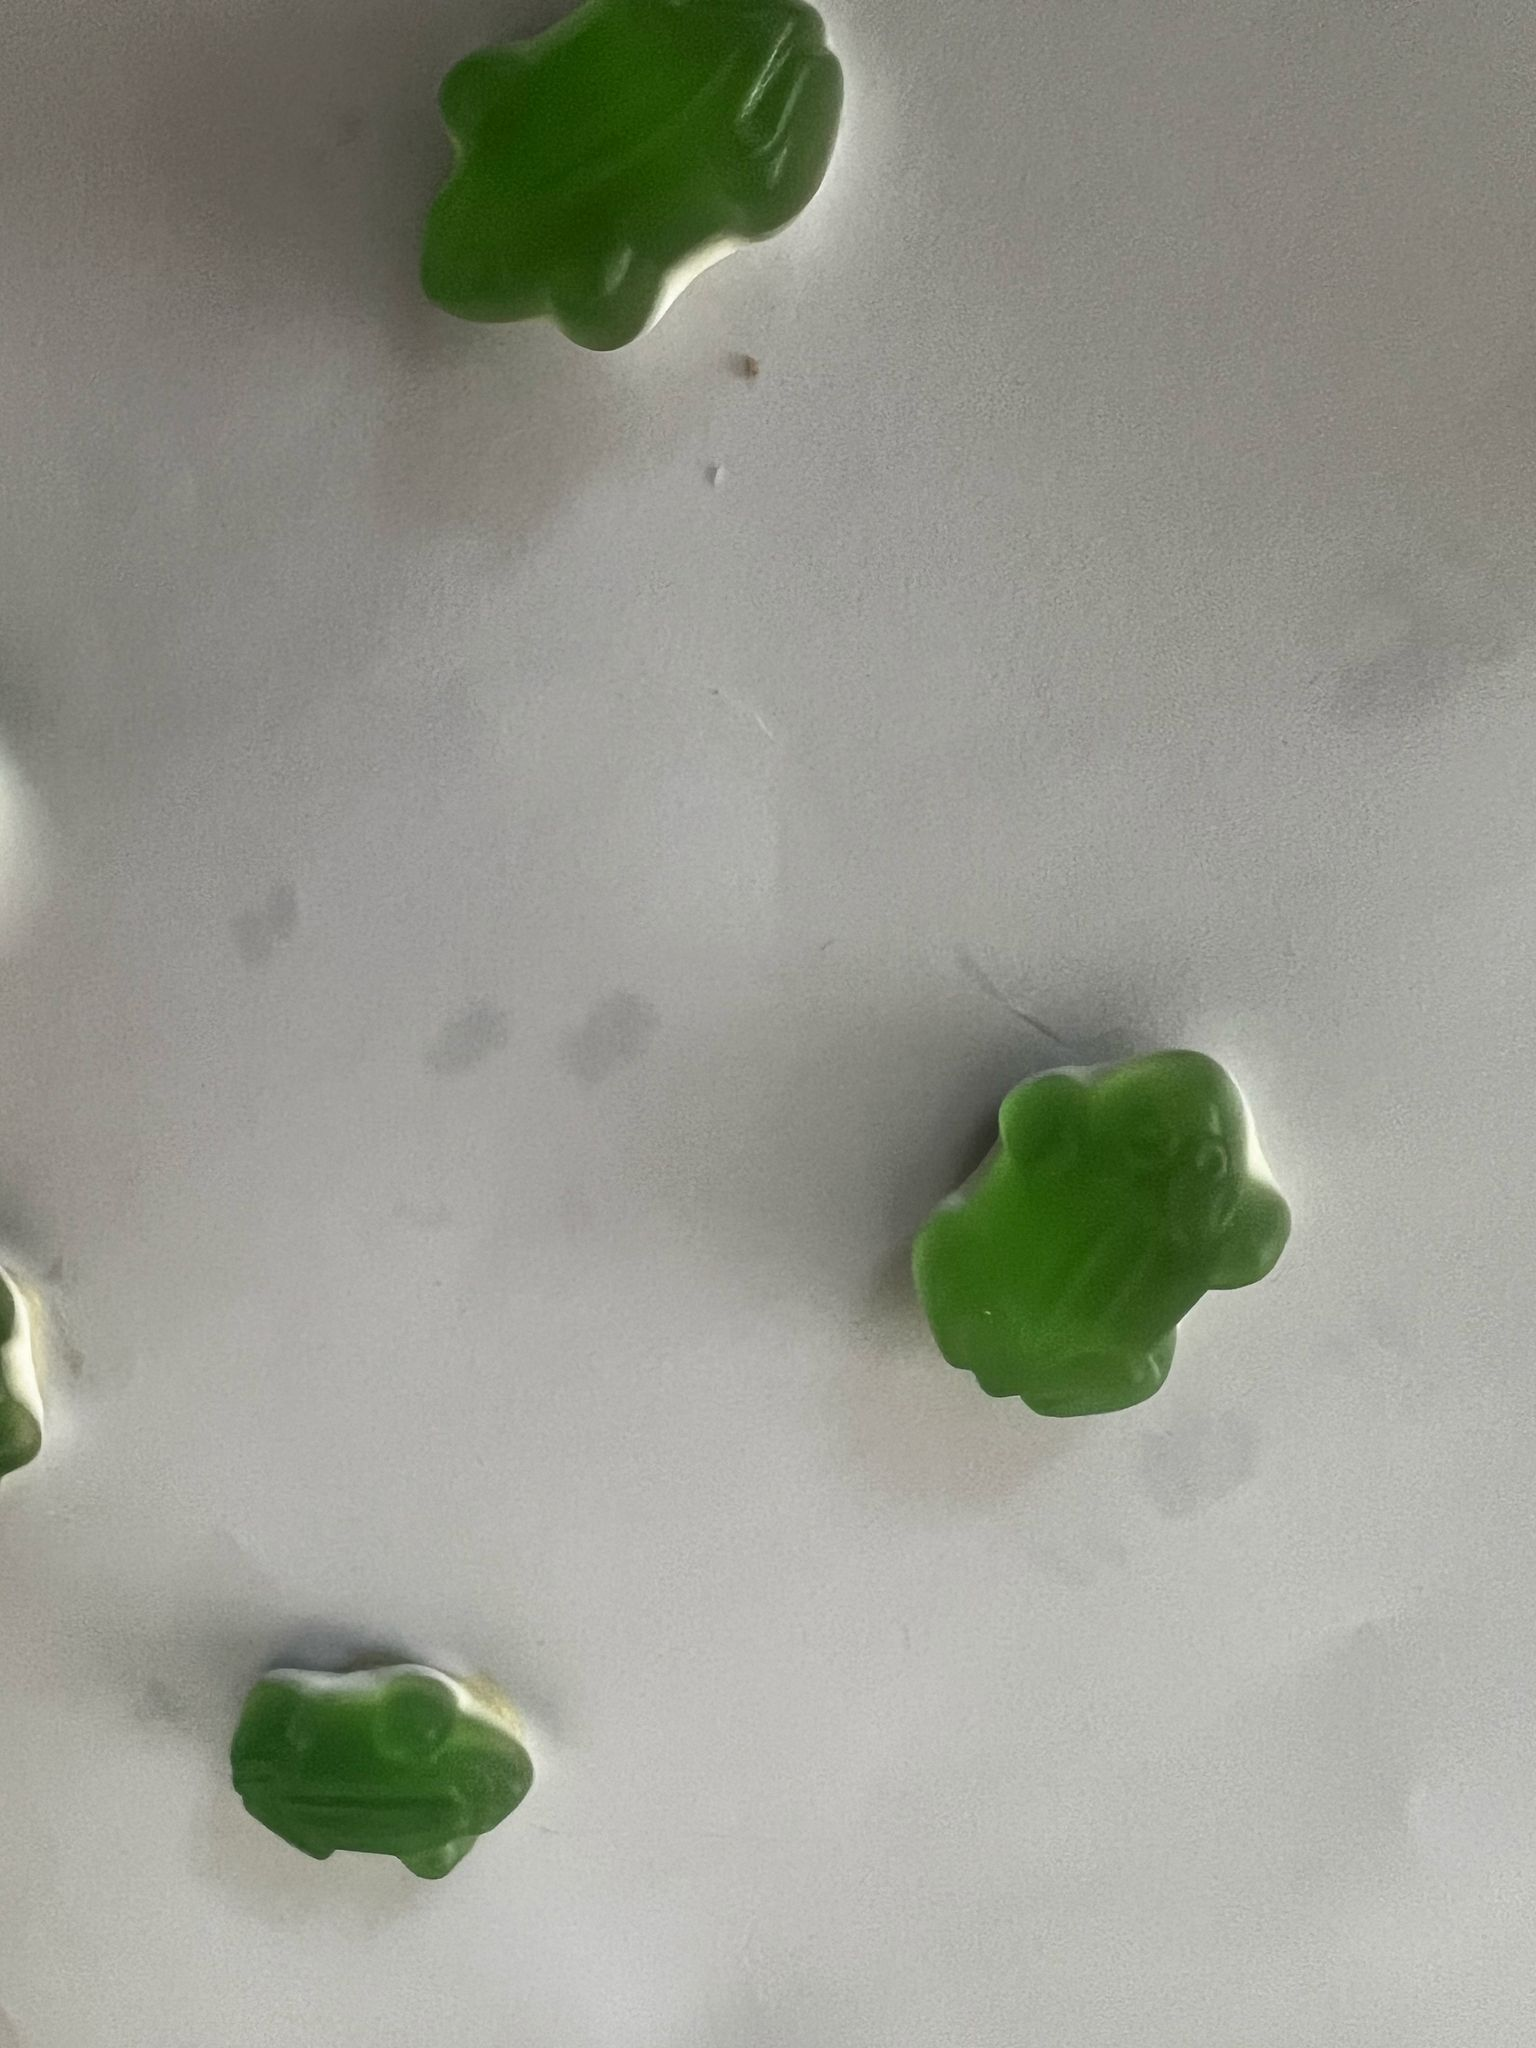frog: (410, 3, 852, 356), (904, 1043, 1300, 1419), (215, 1650, 549, 1887)
